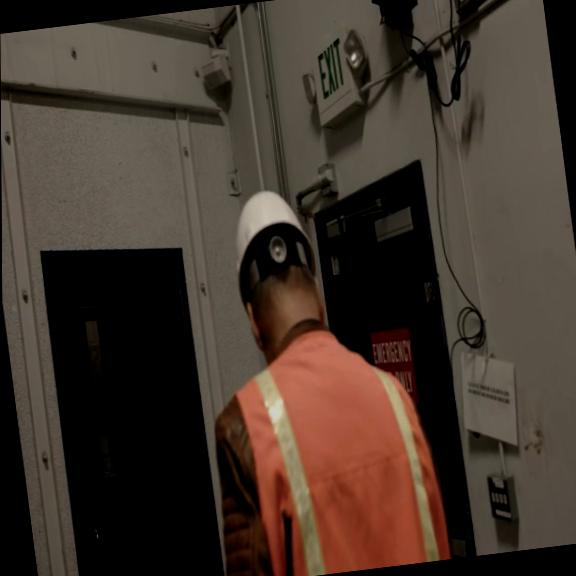safety_vest: (225, 314, 454, 576)
